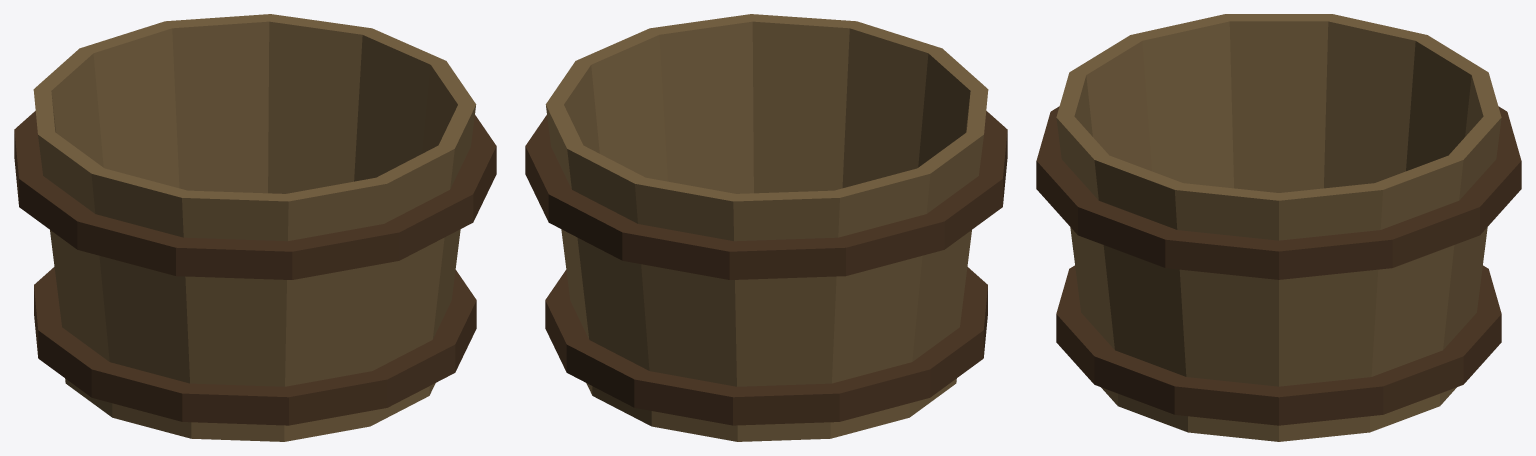
The model's file is bucket_one.fbx.
The picture shows the model from 3 angles, left to right: view 1: azimuth 30°, elevation 25°; view 2: azimuth 150°, elevation 25°; view 3: azimuth 270°, elevation 25°; orthographic projection.
Parts seen in each view (by area): view 1: bucket_one; view 2: bucket_one; view 3: bucket_one.
Boxes of the visible parts, x1,y1,x2,y2 form: bucket_one: (14,14,496,441); bucket_one: (525,14,1007,441); bucket_one: (1036,14,1521,441).
Size of the model in its own units: 479 by 278 by 482.
